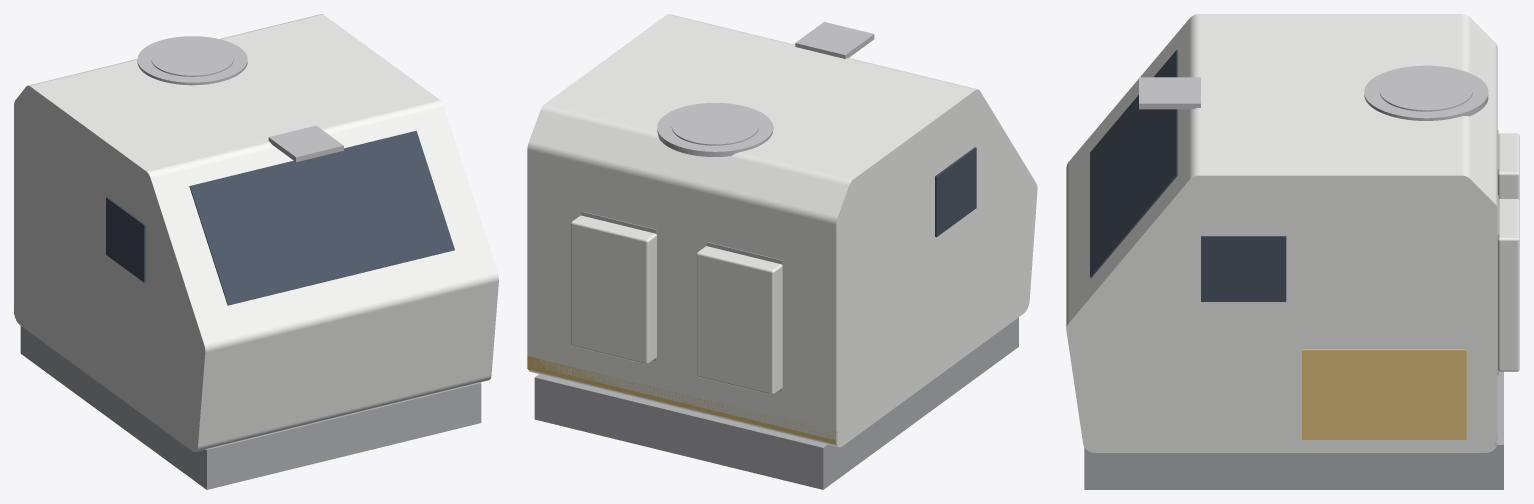
Rendered from rover24_pressurised_cab_m.glb.
The picture shows the model from 3 angles, left to right: view 1: azimuth 30°, elevation 25°; view 2: azimuth 150°, elevation 25°; view 3: azimuth 270°, elevation 25°; orthographic projection. The views are drawn at different scales.
Parts seen in each view (by area): view 1: cabin, windscreen, chassis_skirt, hatch_top, side_windows, mast_plate; view 2: cabin, hatch_suitports, chassis_skirt, hatch_top, gold_trim, side_windows, mast_plate, suitport_rings; view 3: cabin, chassis_skirt, gold_trim, windscreen, side_windows, hatch_top, hatch_suitports, mast_plate.
Part boxes in pixels (left/top/right/bottom): cabin: left=14, top=14, right=498, bottom=451; windscreen: left=189, top=130, right=454, bottom=305; chassis_skirt: left=20, top=326, right=481, bottom=489; hatch_top: left=137, top=36, right=247, bottom=85; side_windows: left=106, top=197, right=145, bottom=282; mast_plate: left=268, top=125, right=343, bottom=162; cabin: left=527, top=14, right=1037, bottom=447; hatch_suitports: left=571, top=215, right=782, bottom=394; chassis_skirt: left=534, top=317, right=1018, bottom=489; hatch_top: left=657, top=103, right=773, bottom=156; gold_trim: left=527, top=356, right=837, bottom=444; side_windows: left=935, top=147, right=976, bottom=237; mast_plate: left=795, top=22, right=874, bottom=58; suitport_rings: left=581, top=211, right=782, bottom=391; cabin: left=1066, top=14, right=1497, bottom=452; chassis_skirt: left=1084, top=371, right=1503, bottom=489; gold_trim: left=1302, top=349, right=1497, bottom=445; windscreen: left=1090, top=50, right=1177, bottom=277; side_windows: left=1201, top=236, right=1286, bottom=301; hatch_top: left=1364, top=65, right=1488, bottom=120; hatch_suitports: left=1498, top=133, right=1519, bottom=371; mast_plate: left=1139, top=77, right=1200, bottom=109.
Bounding box in the file's own units: 2.49 × 2.3 × 2.92.
